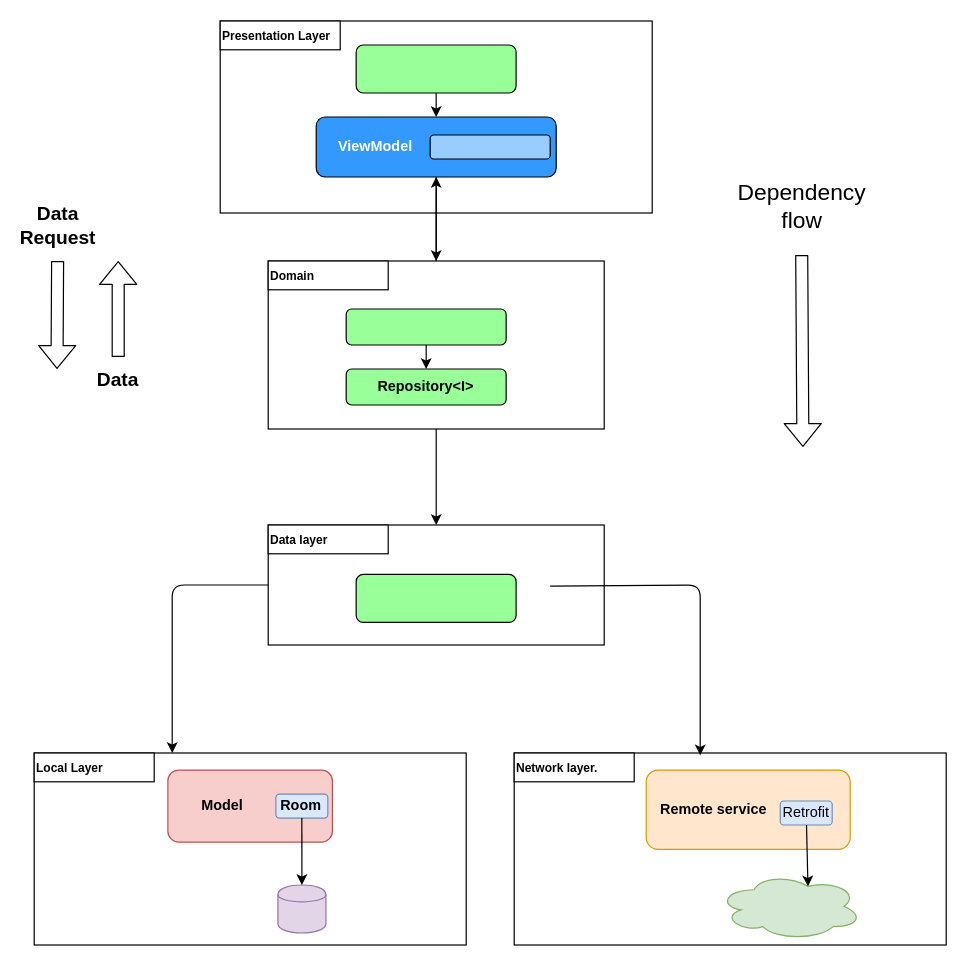
The diagram is 967 pixels wide and 966 high, and some of its shapes have lost their labels. The centre of each missing label's shape, as x and y in pixels:
"Activities" goes at point (435, 68).
"Github API" goes at point (789, 906).
"LiveData" goes at point (489, 146).
"Repositories Impl" goes at point (435, 597).
"SQLITE" goes at point (301, 908).
"Use Cases" goes at point (425, 326).
